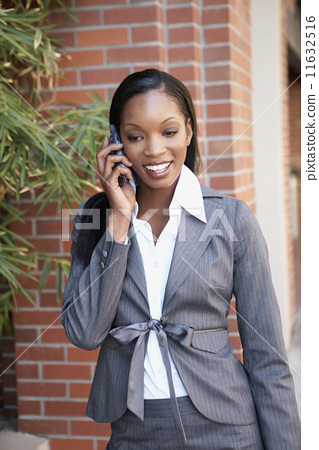phone: (102, 124, 132, 188)
talk: (92, 109, 182, 215)
